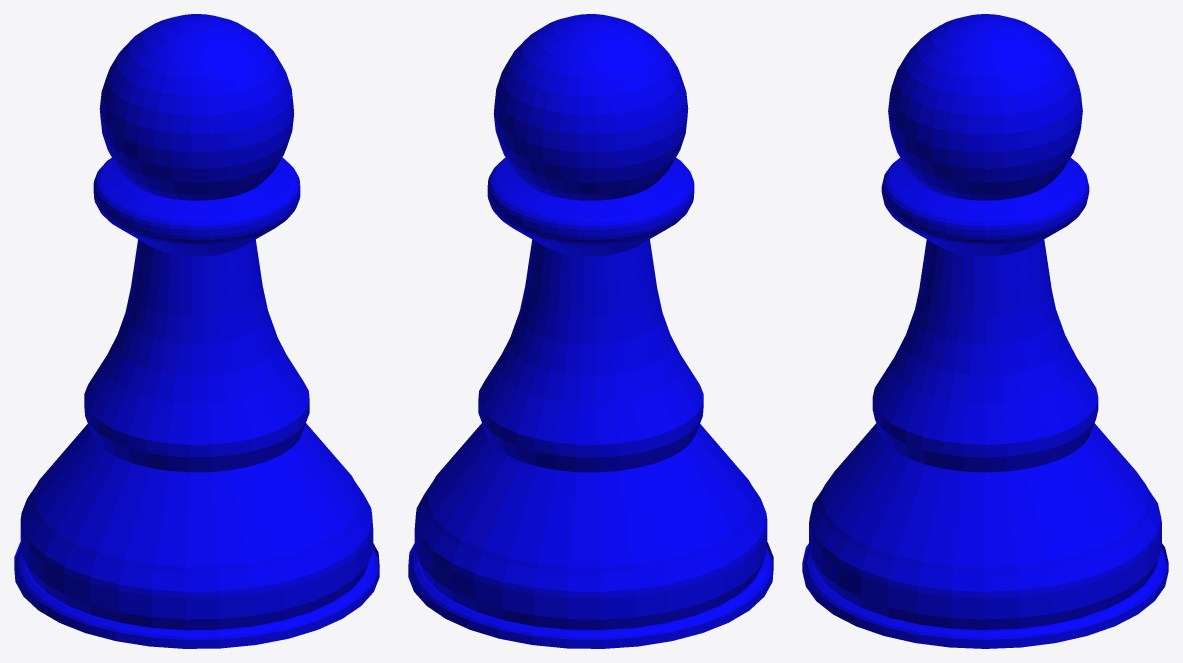
File: bluePawnParent.fbx
3 renders of one model, left to right at view 1: azimuth 30°, elevation 25°; view 2: azimuth 150°, elevation 25°; view 3: azimuth 270°, elevation 25°, orthographic.
Parts seen in each view (by area): view 1: 円柱, 球; view 2: 円柱, 球; view 3: 円柱, 球.
Part boxes in pixels (<box>): 円柱: <box>14,157,379,648</box>; 球: <box>99,14,294,200</box>; 円柱: <box>408,157,773,648</box>; 球: <box>493,14,688,200</box>; 円柱: <box>802,158,1168,648</box>; 球: <box>888,14,1082,200</box>.
Bounding box in the file's own units: 200 × 333 × 200.
